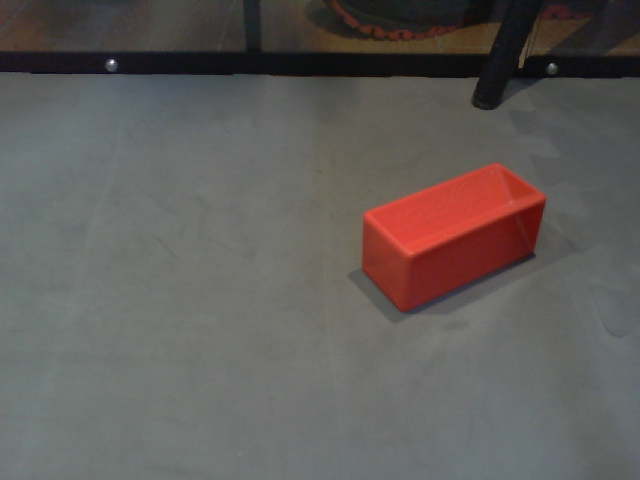RedSample: (355, 162, 549, 317)
